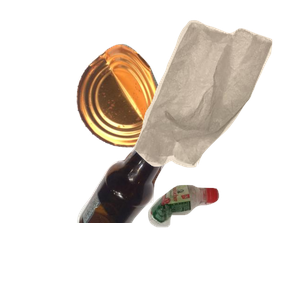glass: (74, 120, 244, 300)
metal: (74, 41, 229, 181)
plastic: (146, 182, 300, 300)
trash: (132, 17, 300, 177)
